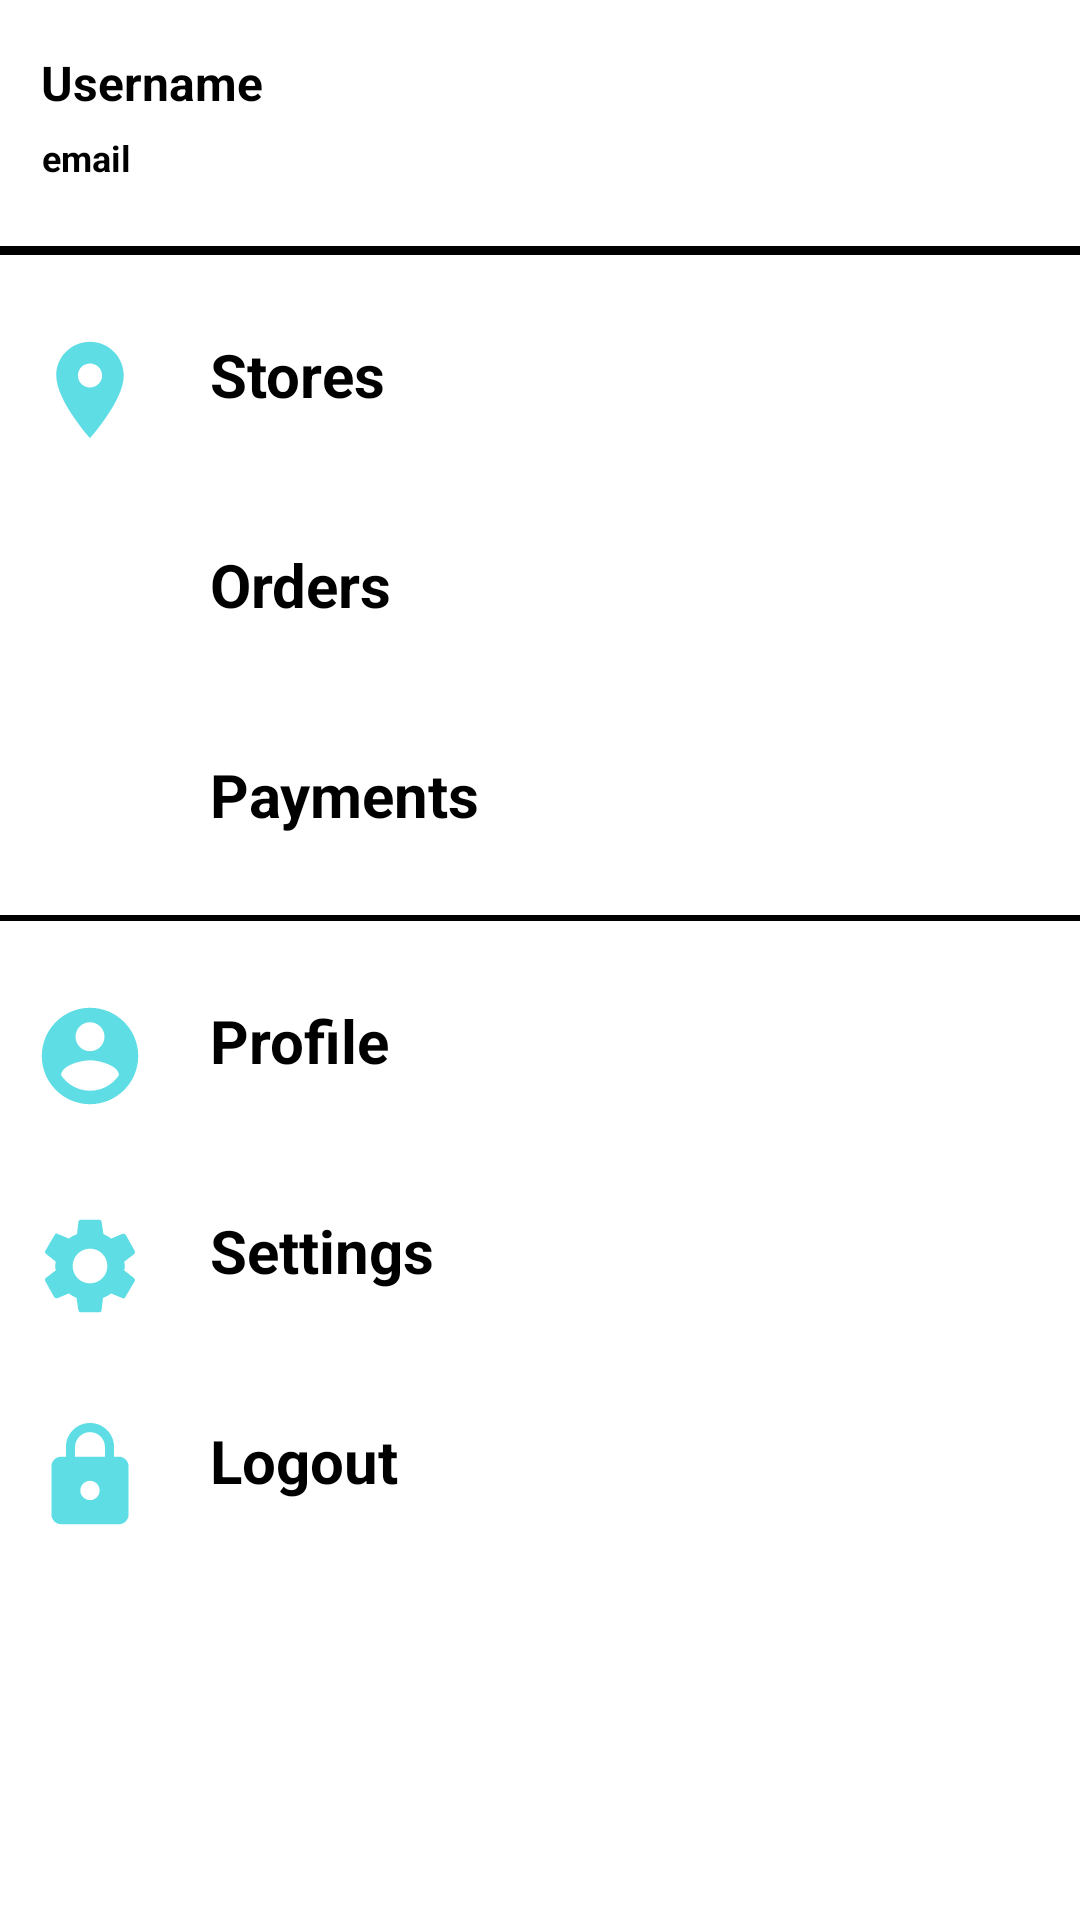

Where icons sit on this 1080w x 1920h app screen, as (x1, y1, x2, y2):
locate: (56, 341, 124, 438)
